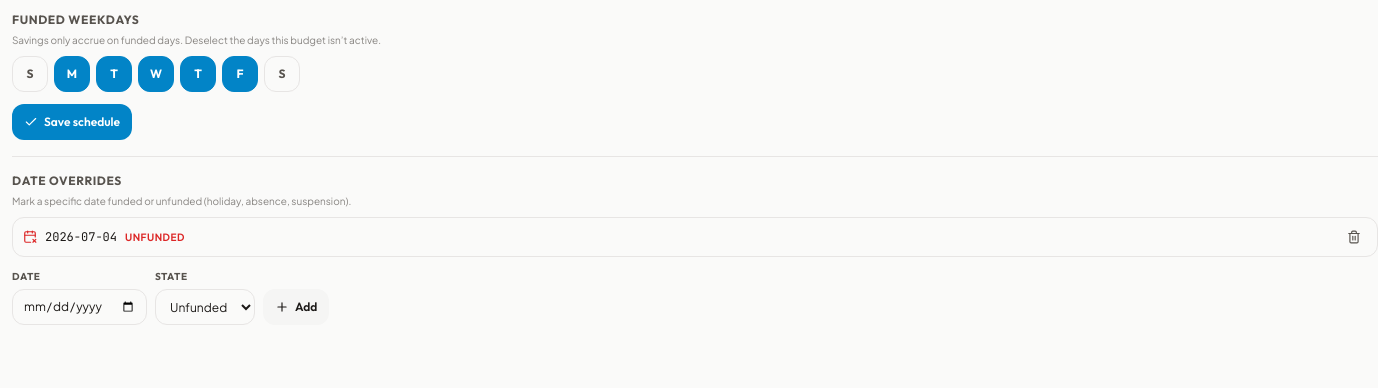
FundedDayConfig › surfaces a validation error returned when saving the schedule (Req 1.4)
Click the button "Save schedule": (72, 122) [12,104,132,140]
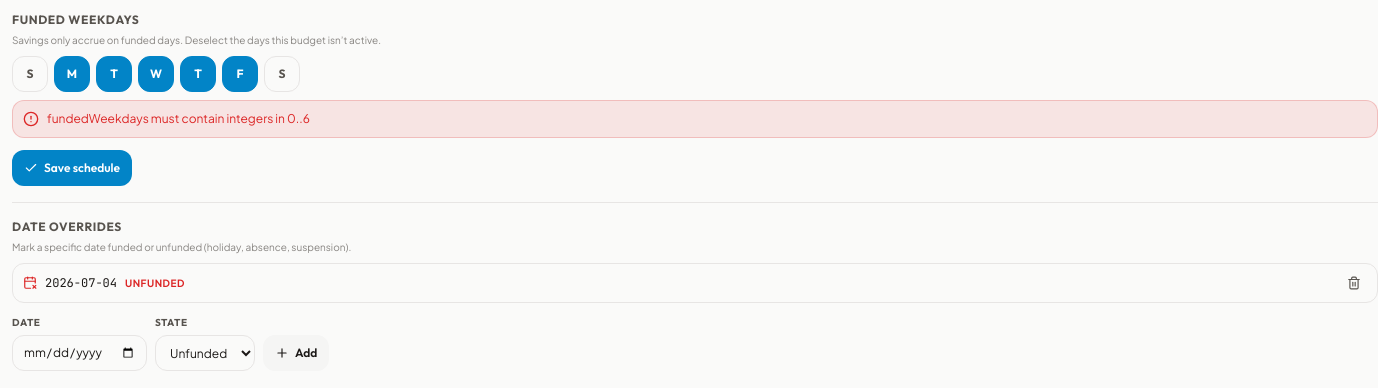
Result: the text "fundedWeekdays must contain integers in 0..6" is shown at [47,111,310,127]
